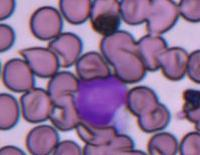L: (75, 74, 128, 128)
